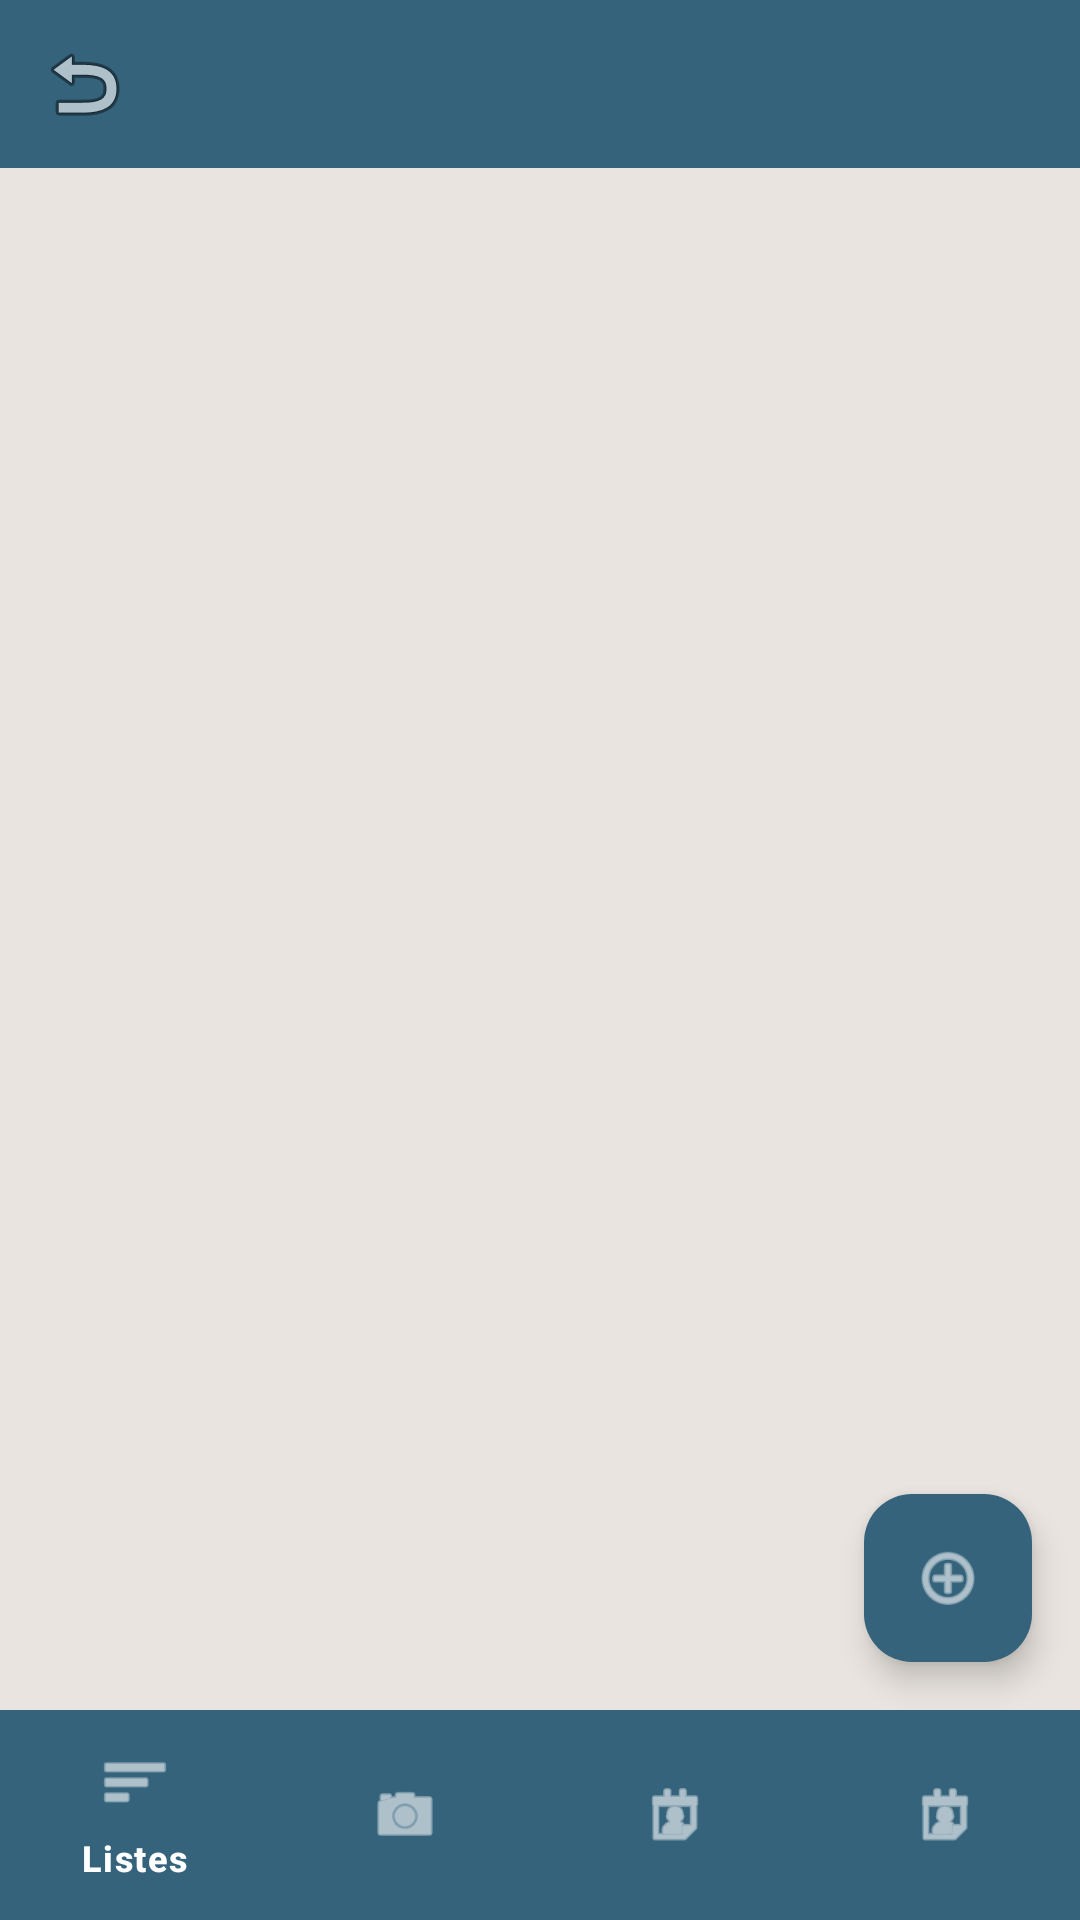

Where icons sit on this 1080×1920 app screen, as (x1=x1, y1=y1, x2=x2, y2=y2):
add: (x1=864, y1=1494, x2=1032, y2=1662)
